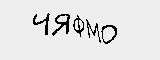М: (85, 19, 102, 43)
О: (98, 24, 118, 44)
Ф: (73, 14, 86, 37)
Ч: (32, 12, 51, 35)
Я: (50, 11, 71, 37)
